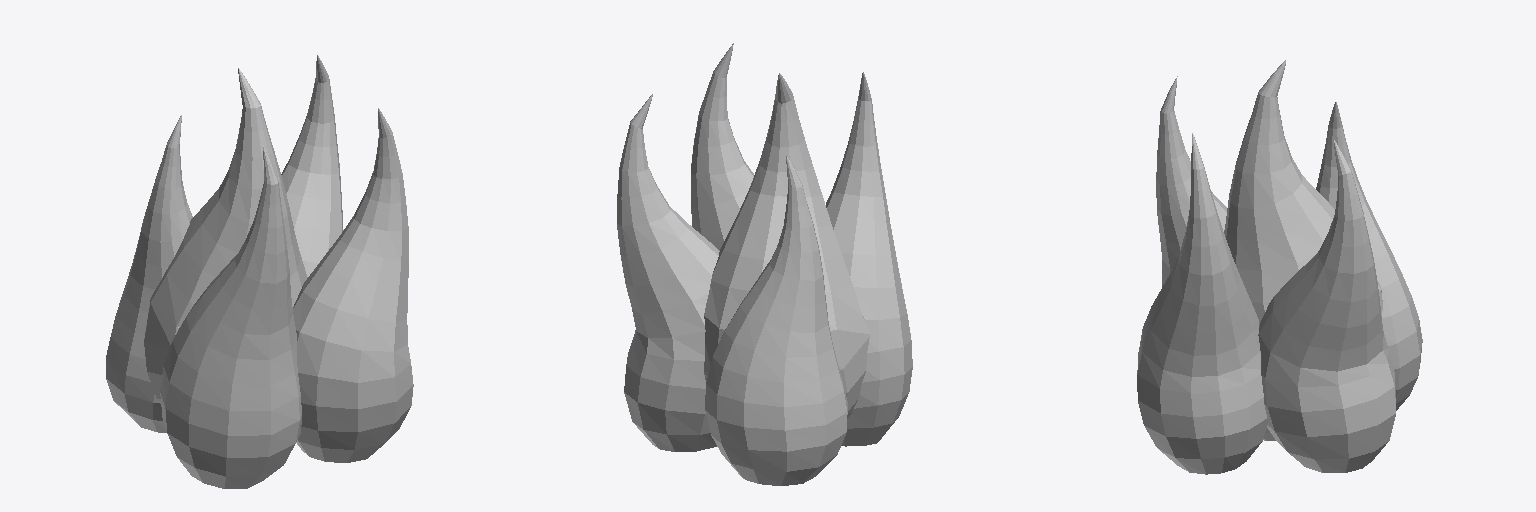
The model's file is fire_000033.obj.
3 renders of one model, left to right at view 1: azimuth 30°, elevation 25°; view 2: azimuth 150°, elevation 25°; view 3: azimuth 270°, elevation 25°, orthographic.
Visible parts, largest first — view 1: flame_NurbsPath.015; view 2: flame_NurbsPath.015; view 3: flame_NurbsPath.015.
Part boxes in pixels (x1,y1,x2,y2): flame_NurbsPath.015: (106, 55, 413, 488); flame_NurbsPath.015: (617, 43, 912, 485); flame_NurbsPath.015: (1137, 60, 1422, 474).
Size of the model in its own units: 0.7462 by 1.19 by 0.812.